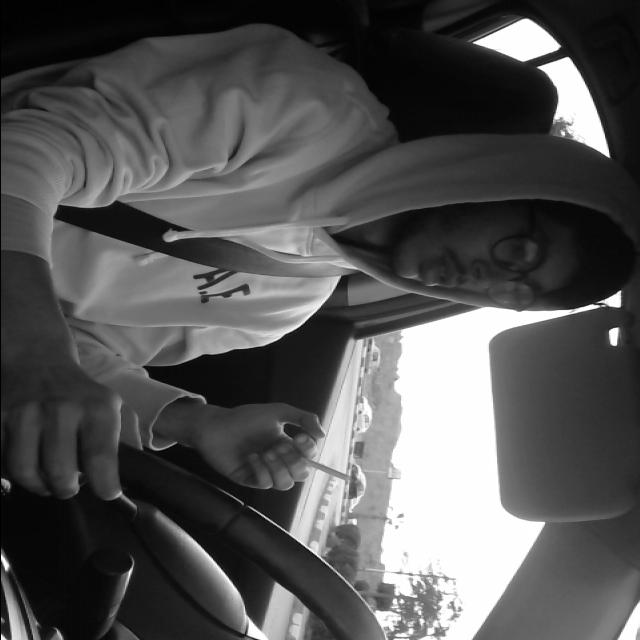smoking: (264, 446, 358, 484)
